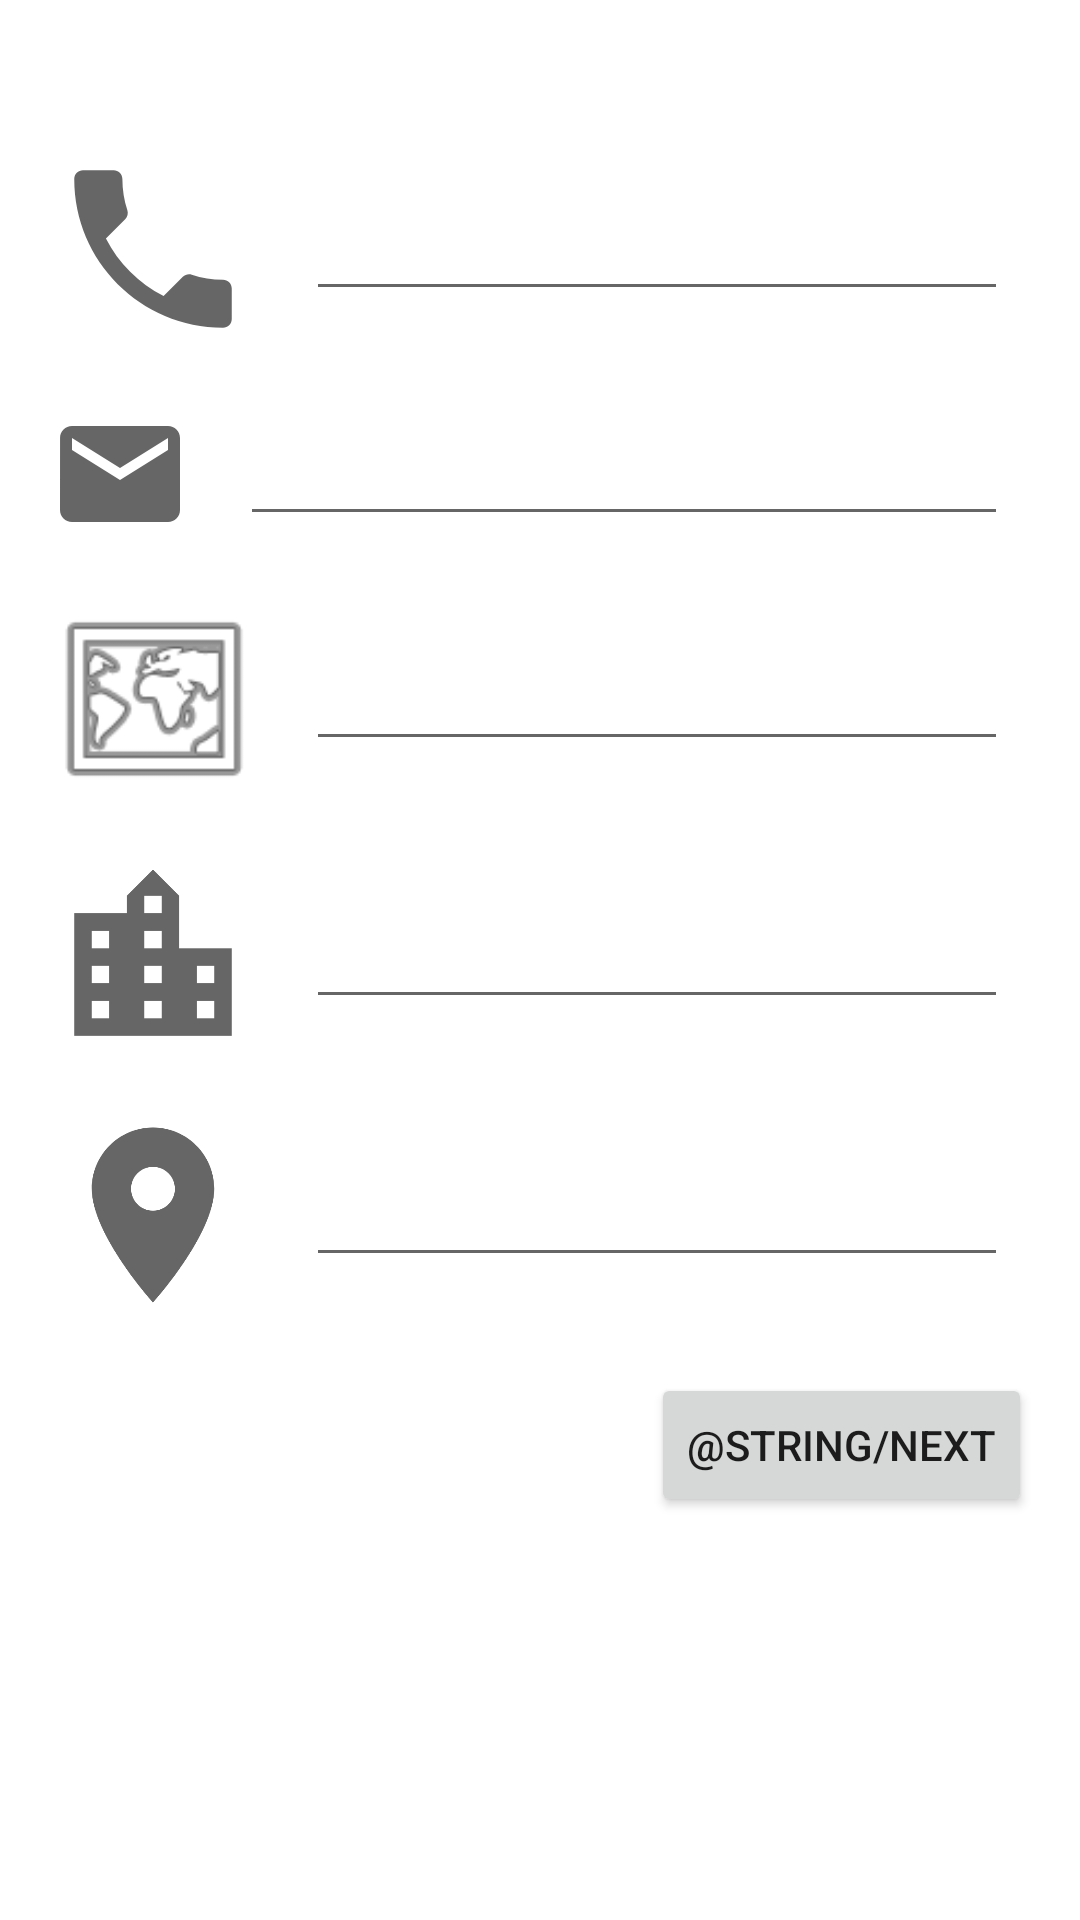

Icons on this 1080px x 1920px Android screen, each with its box as rect(x1, y1, x2, y2):
email: rect(60, 426, 180, 522)
local phone: rect(74, 170, 232, 328)
location city: rect(74, 870, 232, 1036)
mapmode: rect(66, 622, 242, 776)
place: rect(91, 1127, 215, 1302)
